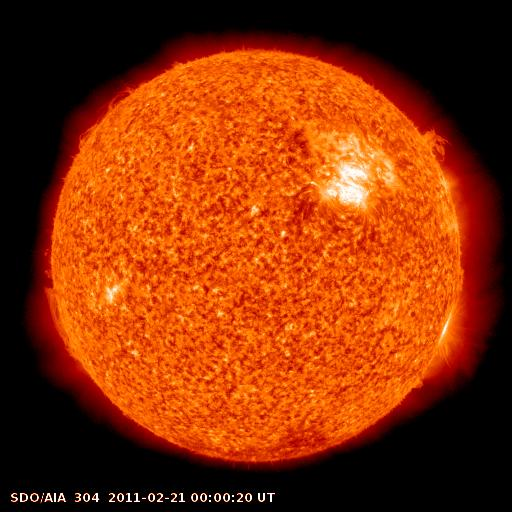prominence: (32, 241, 93, 375), (63, 77, 146, 156), (403, 107, 467, 170)
